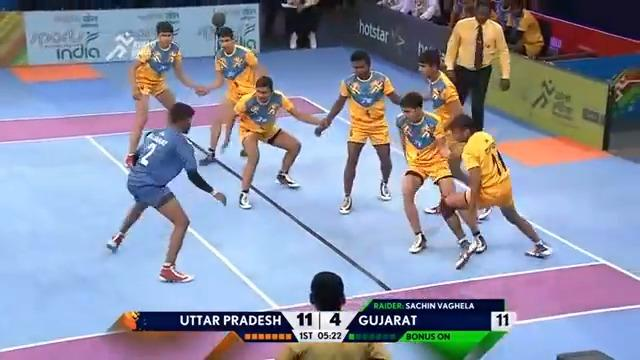Player: (425, 112, 553, 269), (314, 49, 402, 214), (395, 91, 480, 256), (415, 47, 492, 220), (232, 74, 328, 209), (123, 20, 206, 167), (276, 270, 390, 359), (195, 26, 267, 166)
Raider: (105, 101, 227, 283)
referee: (443, 1, 511, 131), (498, 0, 544, 59), (283, 0, 320, 49)
